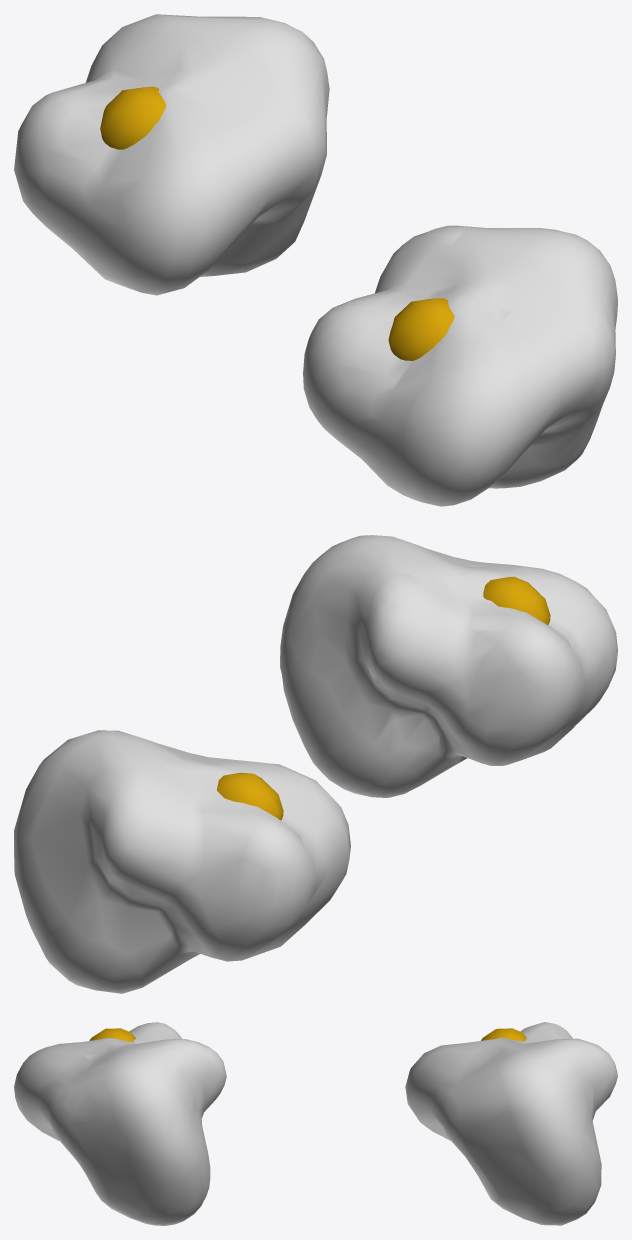
Rendered from pOPCORN.fbx.
3 renders of one model, top to bottom at view 1: azimuth 30°, elevation 25°; view 2: azimuth 150°, elevation 25°; view 3: azimuth 270°, elevation 25°, orthographic. The views are drawn at different scales.
Visible parts, largest first — view 1: Popcorn_H, Popcorn_L; view 2: Popcorn_H, Popcorn_L; view 3: Popcorn_H, Popcorn_L.
Part boxes in pixels (x1=…): Popcorn_H: x1=303, y1=225, x2=617, y2=506; Popcorn_L: x1=14, y1=14, x2=329, y2=295; Popcorn_H: x1=280, y1=535, x2=617, y2=797; Popcorn_L: x1=14, y1=730, x2=350, y2=993; Popcorn_H: x1=14, y1=1022, x2=226, y2=1225; Popcorn_L: x1=405, y1=1022, x2=617, y2=1225.
Size of the model in its own units: 2.56 by 2.02 by 6.55.
